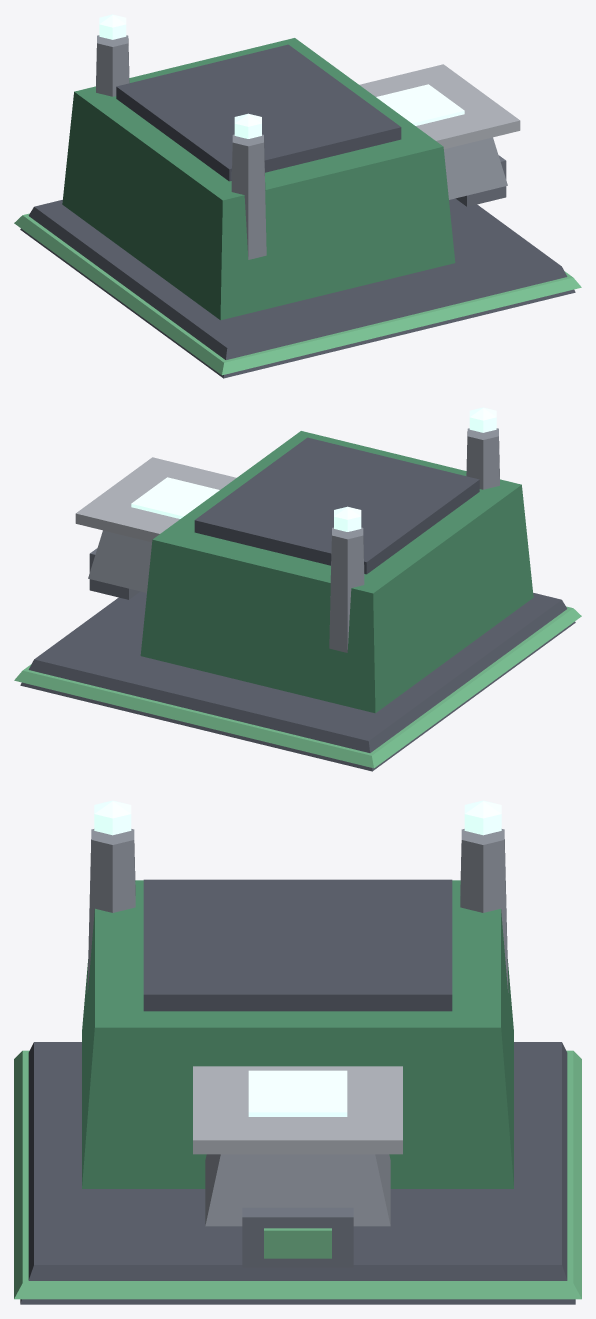
Rendered from unloader.glb.
The picture shows the model from 3 angles, top to bottom: view 1: azimuth 30°, elevation 25°; view 2: azimuth 150°, elevation 25°; view 3: azimuth 270°, elevation 25°; orthographic projection. The views are drawn at different scales.
Visible parts, largest first — view 1: Body, GlowLight; view 2: Body, GlowLight; view 3: Body, GlowLight.
Part boxes in pixels (left/top/right/bottom): Body: left=14, top=35, right=581, bottom=378; GlowLight: left=99, top=14, right=464, bottom=138; Body: left=14, top=428, right=581, bottom=771; GlowLight: left=131, top=407, right=496, bottom=531; Body: left=14, top=829, right=581, bottom=1304; GlowLight: left=94, top=800, right=501, bottom=1116.
Size of the model in its own units: 0.948 by 0.55 by 0.92.
